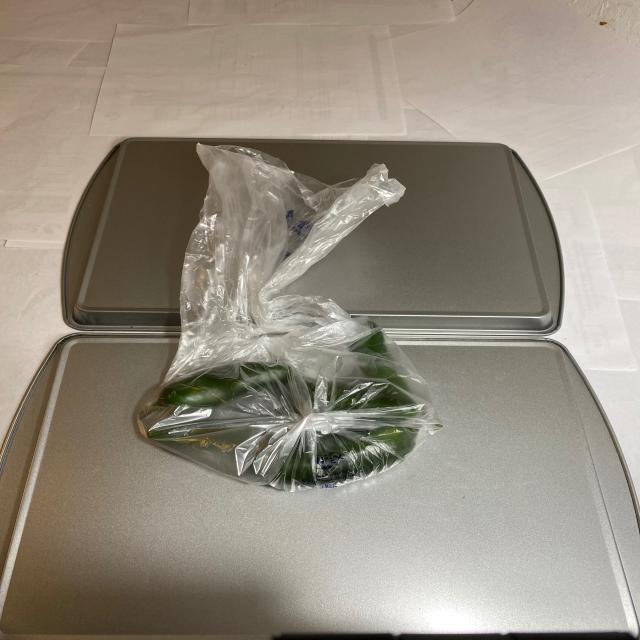chilli: (116, 320, 430, 484)
